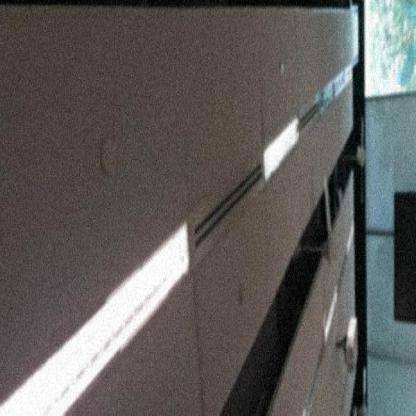light_on: (0, 209, 197, 415), (255, 109, 304, 190), (315, 268, 341, 352), (344, 213, 356, 262)
